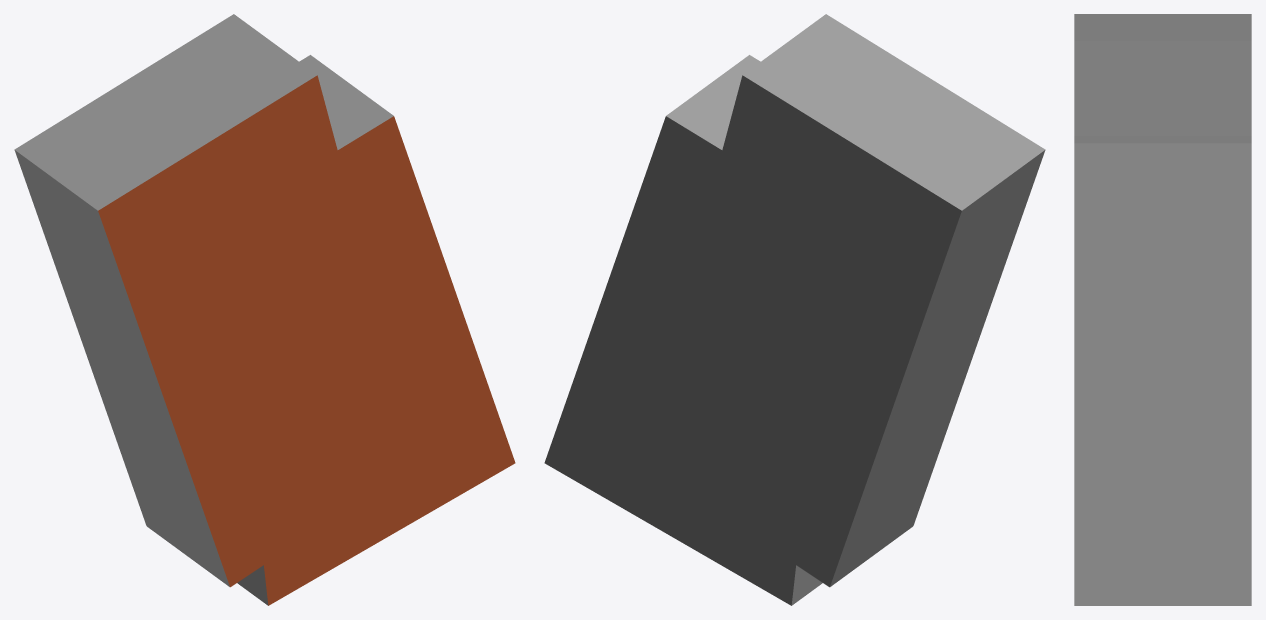
File: construction_4656_assumed_A_Casa_h6m.obj
3 views of the same model, side by side, from view 1: azimuth 30°, elevation 25°; view 2: azimuth 150°, elevation 25°; view 3: azimuth 270°, elevation 25° (orthographic). The views are drawn at different scales.
Visible parts, largest first — view 1: construction_4656_assumed_A_Casa; view 2: construction_4656_assumed_A_Casa; view 3: construction_4656_assumed_A_Casa.
Boxes of the visible parts, x1,y1,x2,y2 form: construction_4656_assumed_A_Casa: [14, 14, 515, 605]; construction_4656_assumed_A_Casa: [544, 14, 1045, 605]; construction_4656_assumed_A_Casa: [1074, 14, 1251, 605].
Size of the model in its own units: 17.3 by 20.53 by 6.
